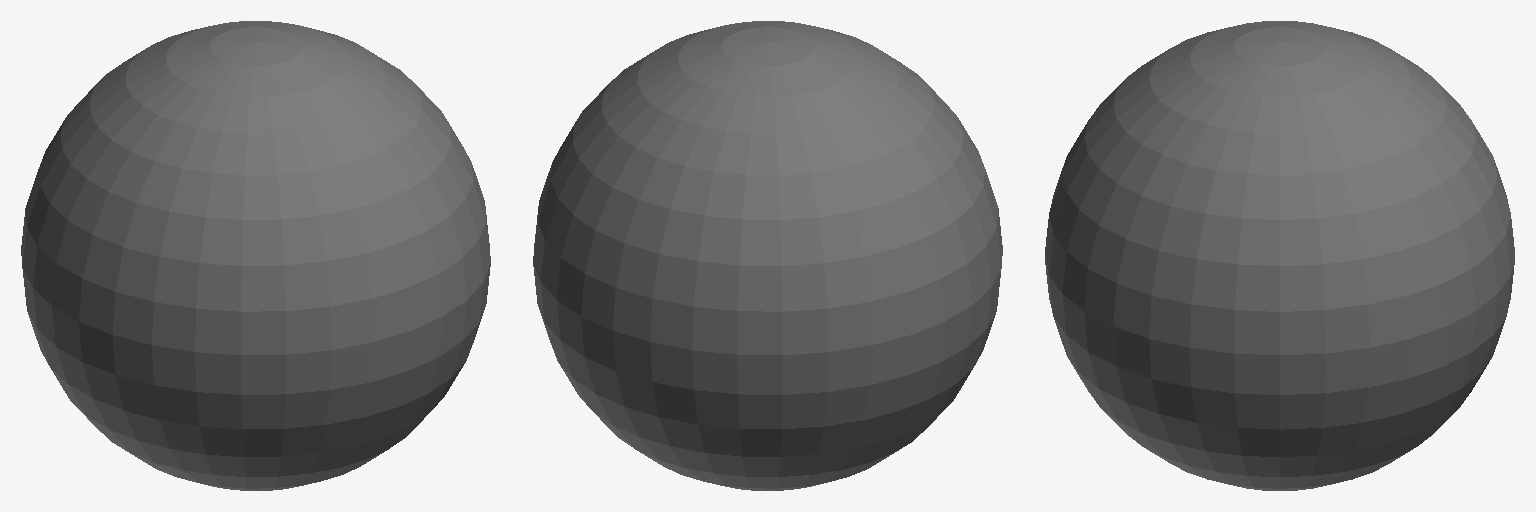
The model's file is multiTexSphere.obj.
3 renders of one model, left to right at view 1: azimuth 30°, elevation 25°; view 2: azimuth 150°, elevation 25°; view 3: azimuth 270°, elevation 25°, orthographic.
Visible parts, largest first — view 1: 球; view 2: 球; view 3: 球.
Boxes of the visible parts, x1,y1,x2,y2 form: 球: [21, 21, 490, 490]; 球: [533, 21, 1002, 490]; 球: [1045, 21, 1514, 490].
Bounding box in the file's own units: 2 × 2 × 2.